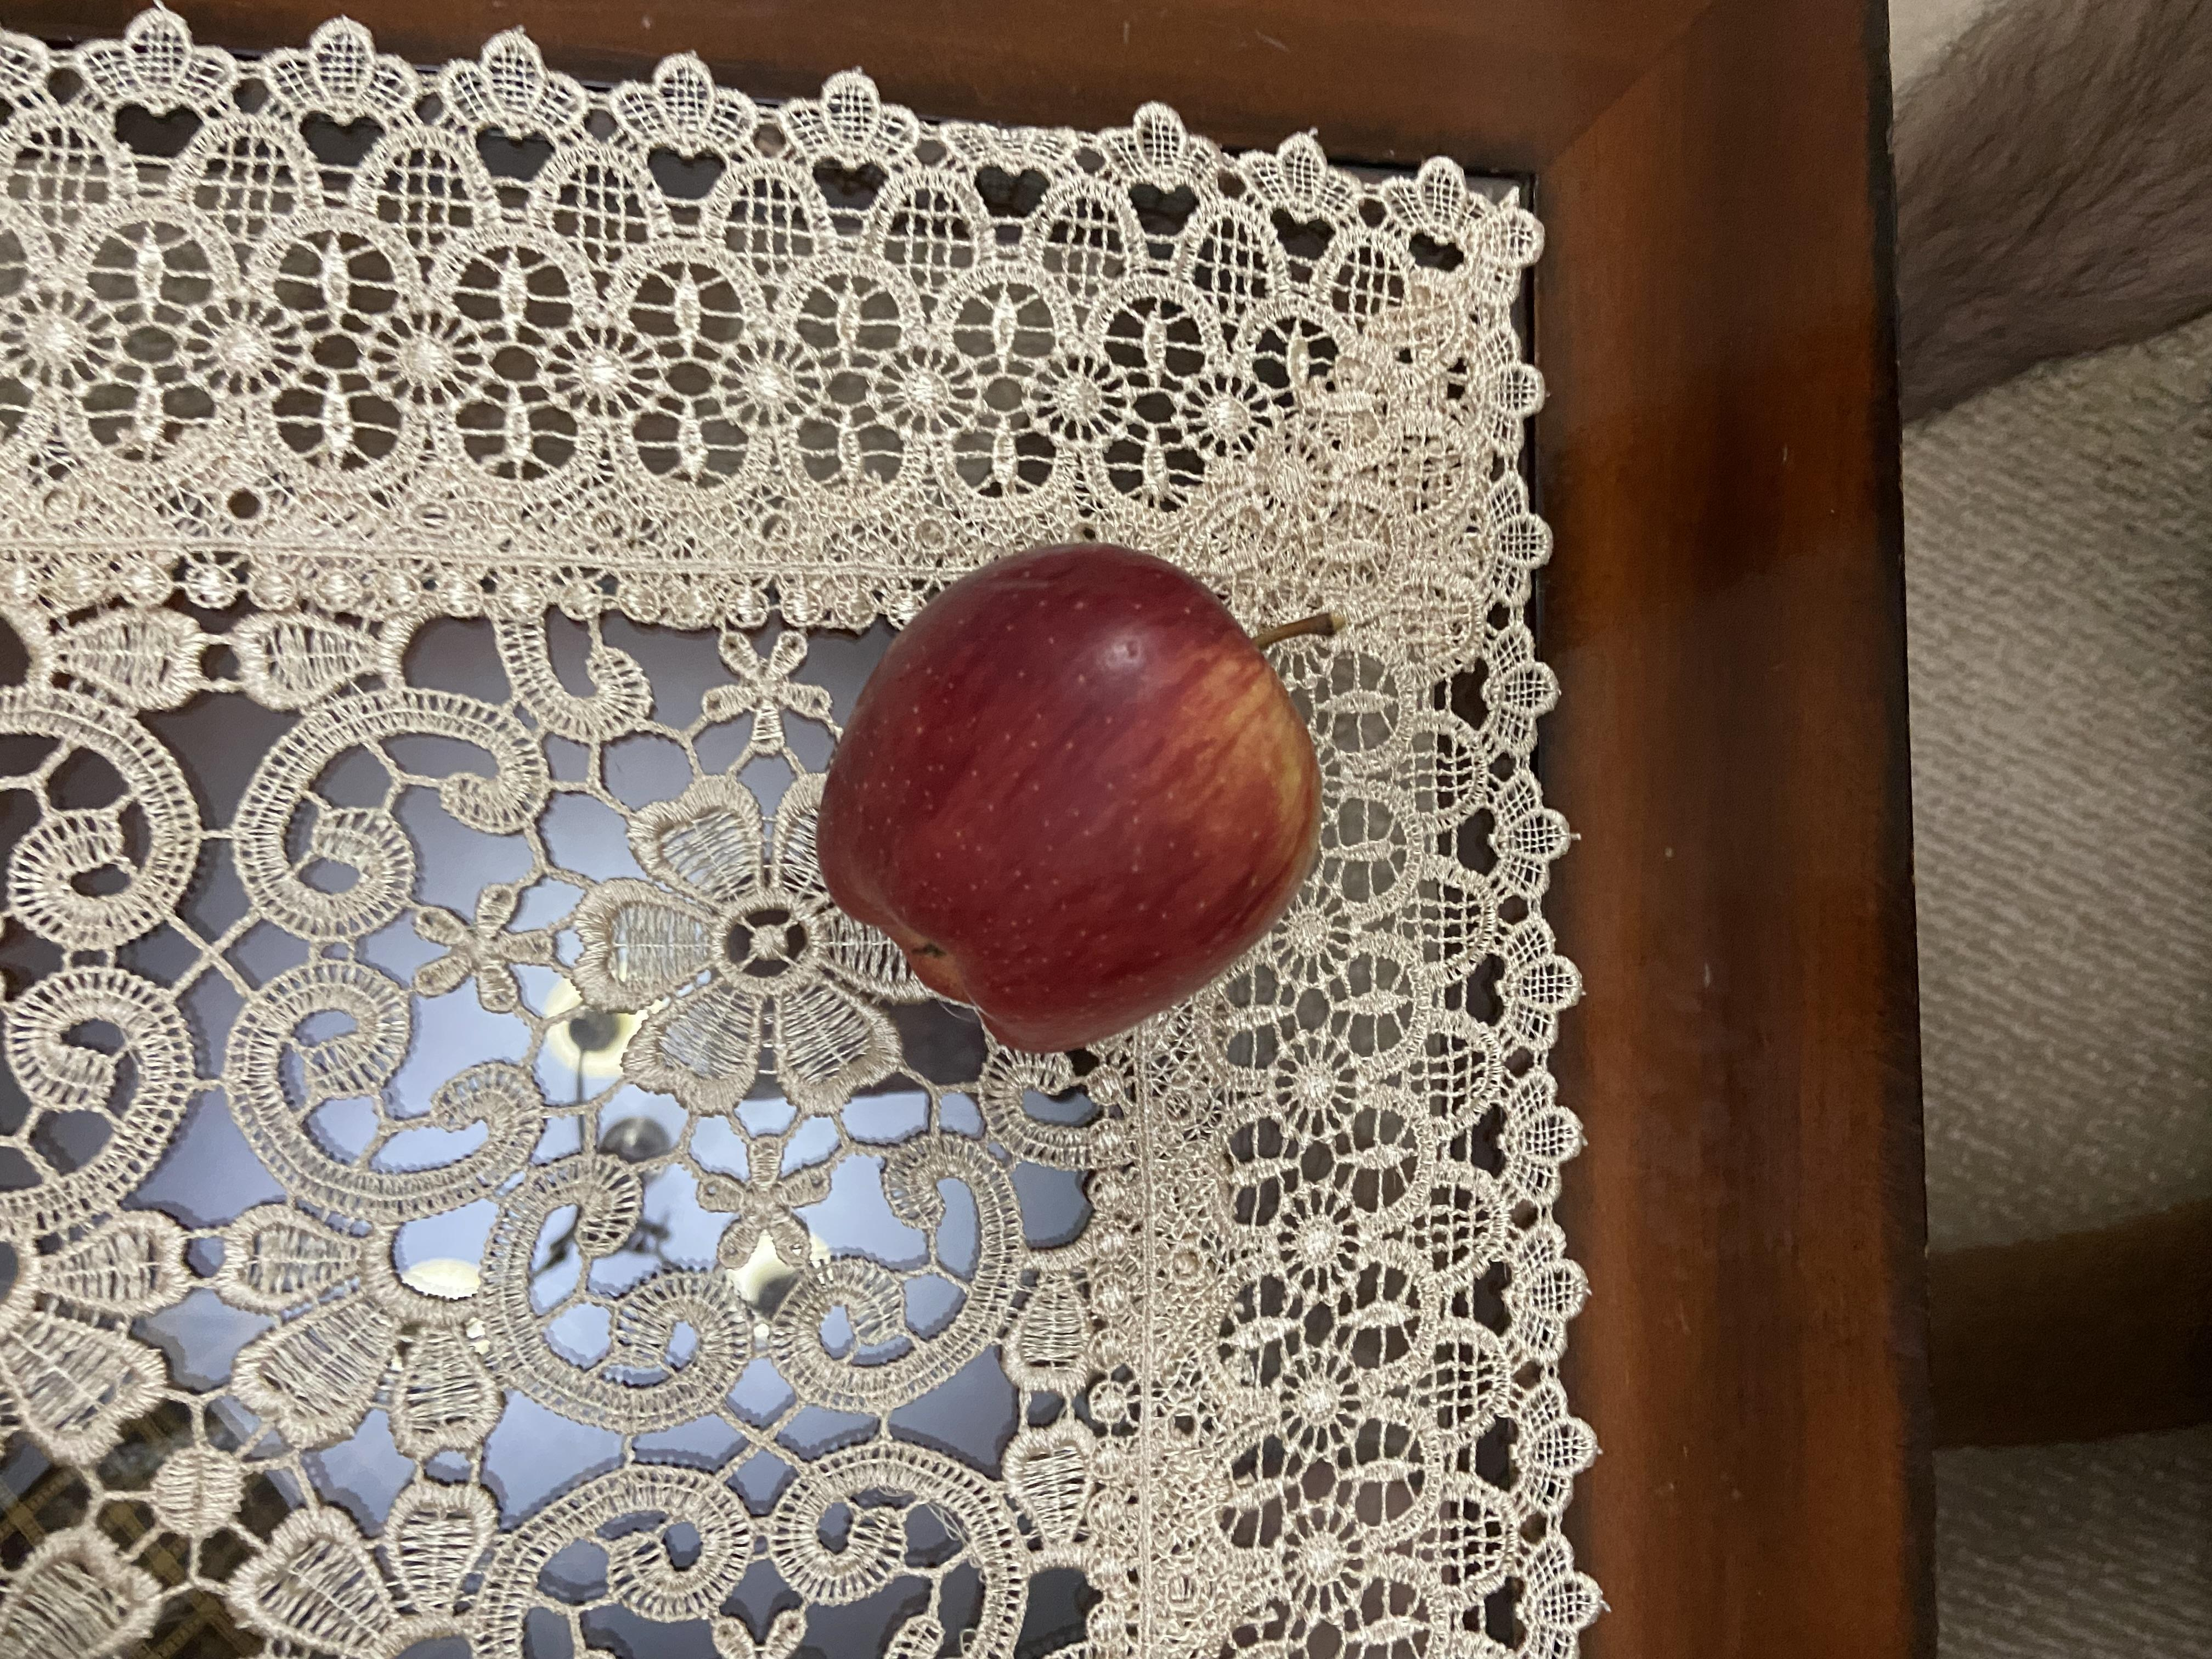Apple: (815, 613, 1500, 1021)
